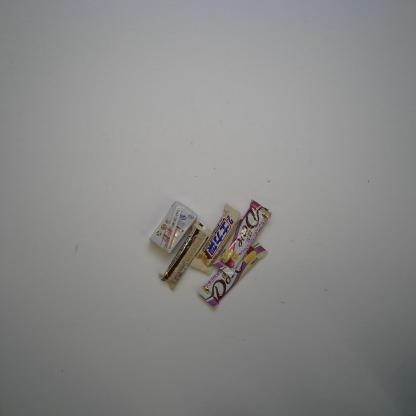Chocolate: (197, 237, 269, 311), (212, 198, 274, 277), (189, 201, 244, 276), (157, 220, 212, 292)
Milk: (148, 200, 198, 254)
